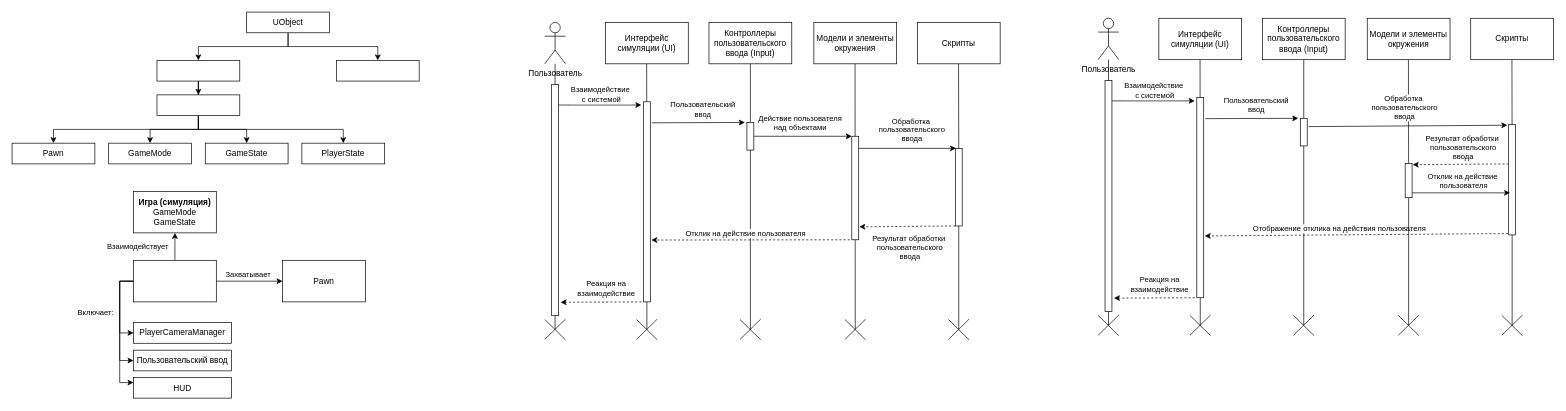
This 1566x411 diagram has some shape labels left out. The shapes that lost their labels are listed below. From the top down, each one's box as (x1, y1, x2, y2) in pixels, then its label:
(156, 60, 240, 81): AActor
(336, 60, 419, 81): Object
(156, 94, 240, 116): Классы Gameplay Framework
(133, 260, 216, 302): PlayerController
